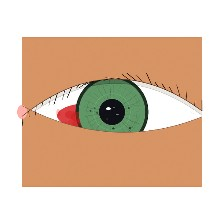hemorrhage_spot: (45, 81, 131, 150)
